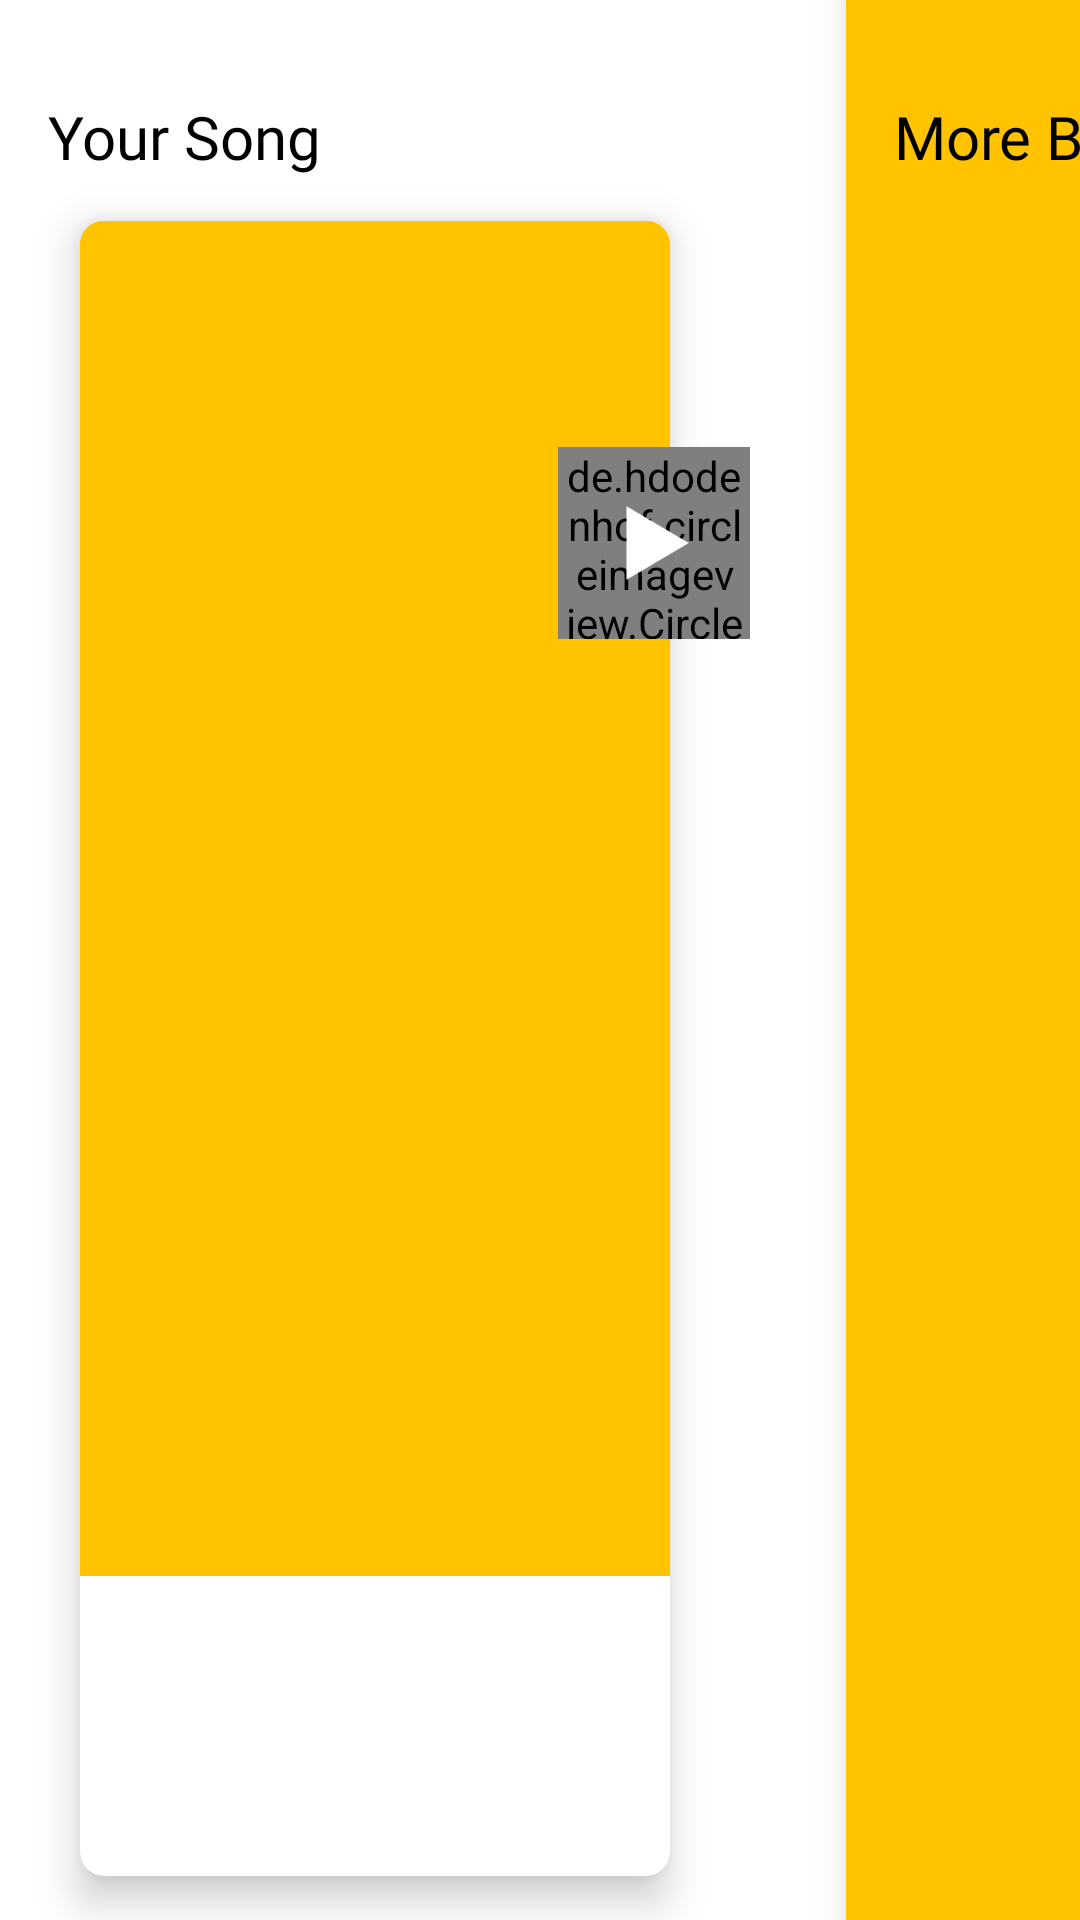

Named icons in this screenshot (1080×1920) and their centers, [x,y]:
play: [652,548]
